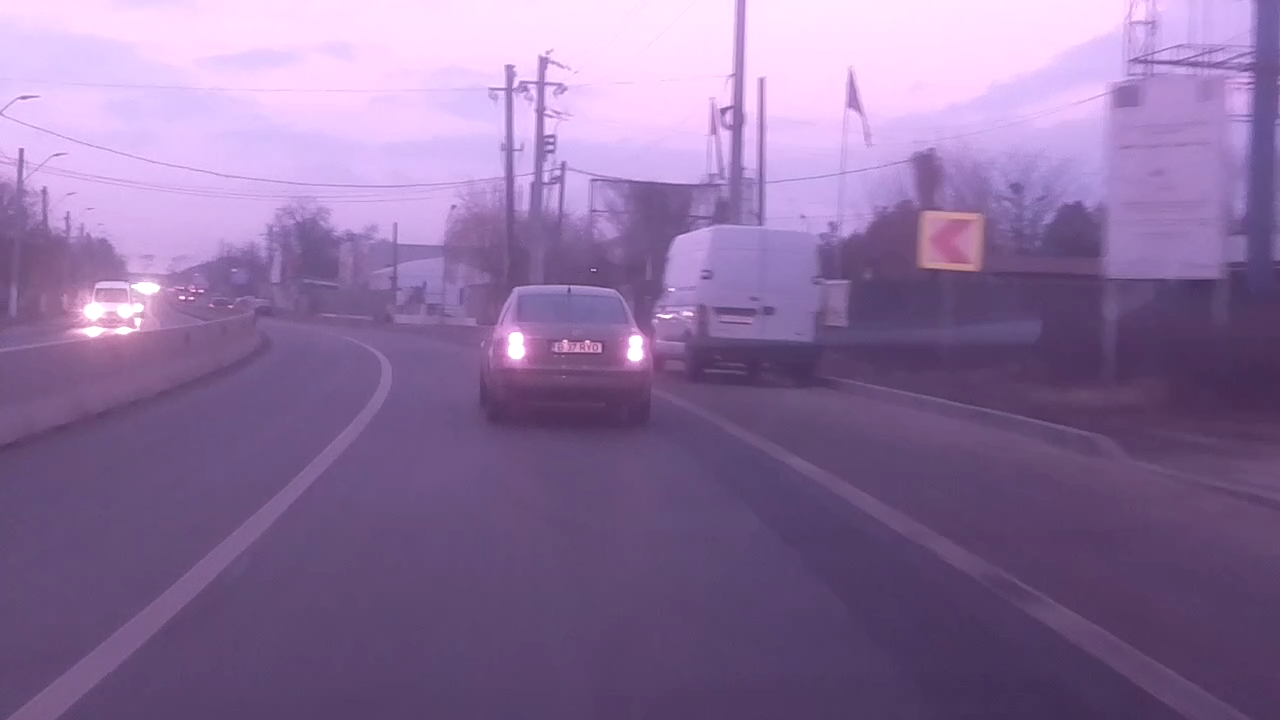license-plate: (550, 337, 605, 356)
